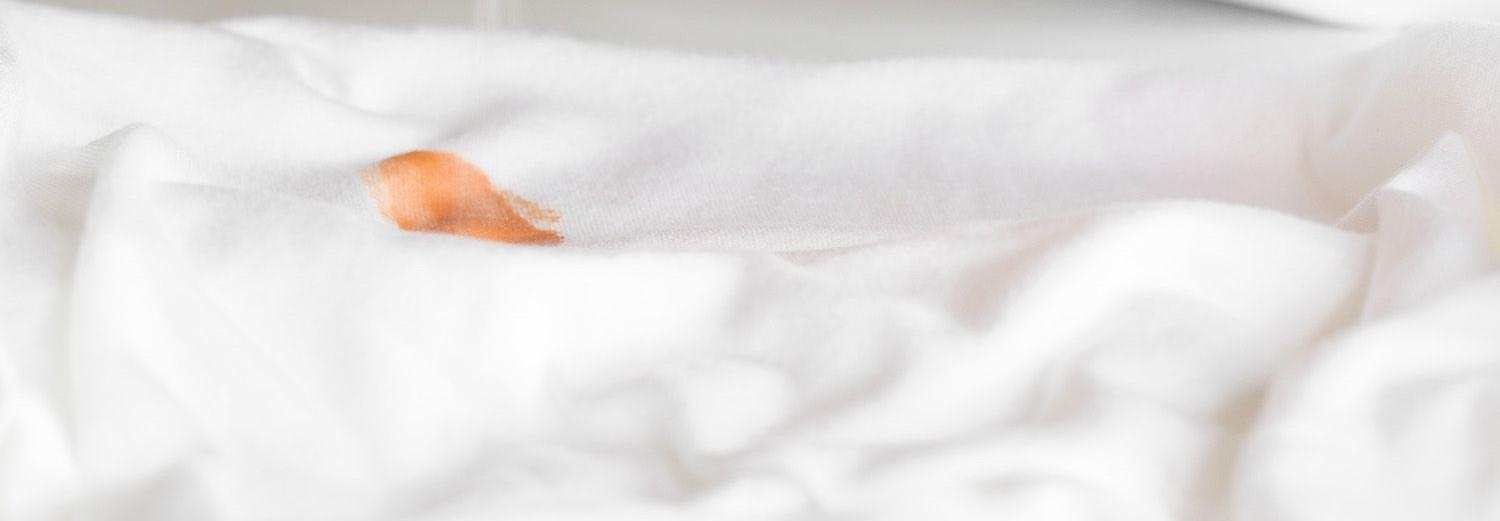gun: (351, 144, 564, 252)
